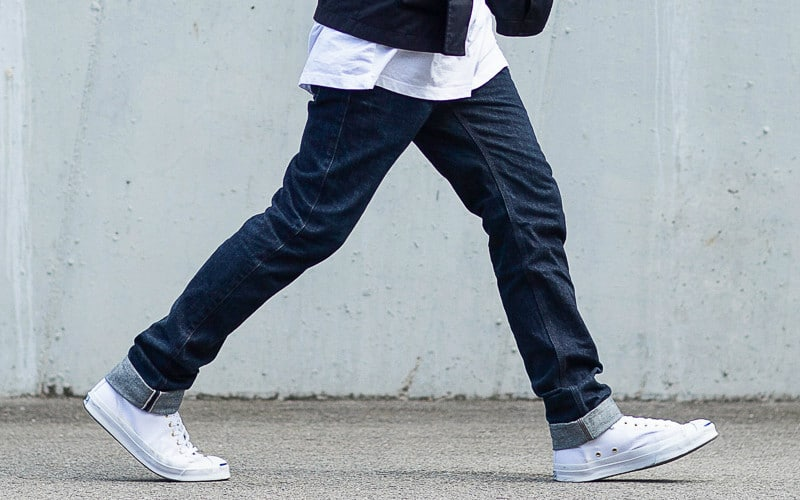jeans: (86, 18, 671, 428)
